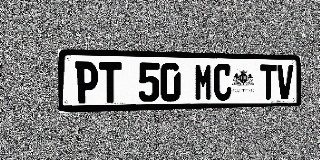0: (160, 63, 180, 102)
5: (139, 63, 159, 102)
C: (214, 64, 232, 100)
M: (194, 63, 213, 101)
P: (75, 62, 98, 103)
T: (99, 62, 121, 103), (260, 64, 277, 100)
V: (277, 65, 293, 99)
